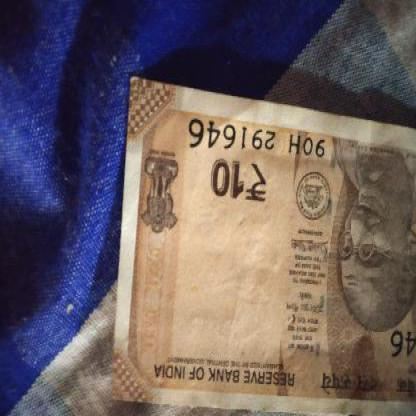New10Front: (127, 81, 416, 398)
